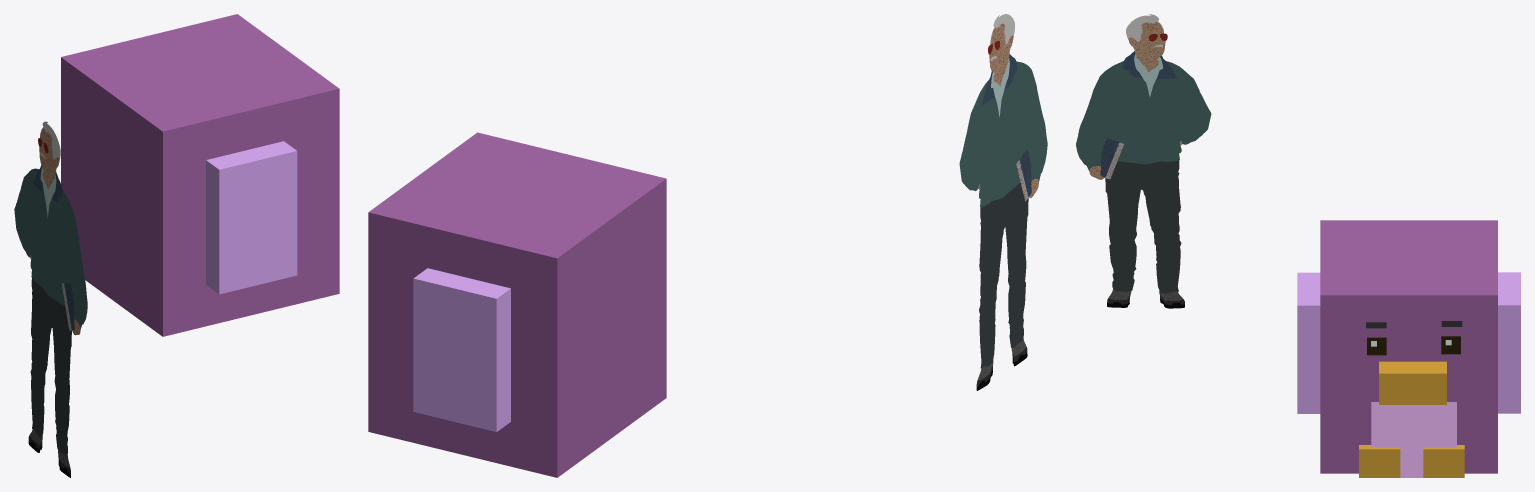
The model's file is penguin2.dae.
3 renders of one model, left to right at view 1: azimuth 30°, elevation 25°; view 2: azimuth 150°, elevation 25°; view 3: azimuth 270°, elevation 25°, orthographic. The views are drawn at different scales.
Visible parts, largest first — view 1: SketchUp (×2), Steve (×3); view 2: SketchUp (×2), Steve (×3); view 3: SketchUp (×7), Steve (×3).
Boxes of the visible parts, <box> form: SketchUp (×2): <box>61,14,339,336</box>; Steve (×3): <box>14,128,87,455</box>; SketchUp (×2): <box>368,132,666,477</box>; Steve (×3): <box>959,23,1047,368</box>; SketchUp (×7): <box>1297,220,1520,477</box>; Steve (×3): <box>1076,22,1211,293</box>.
Bounding box in the file's own units: 86.6 × 91.4 × 66.71.
